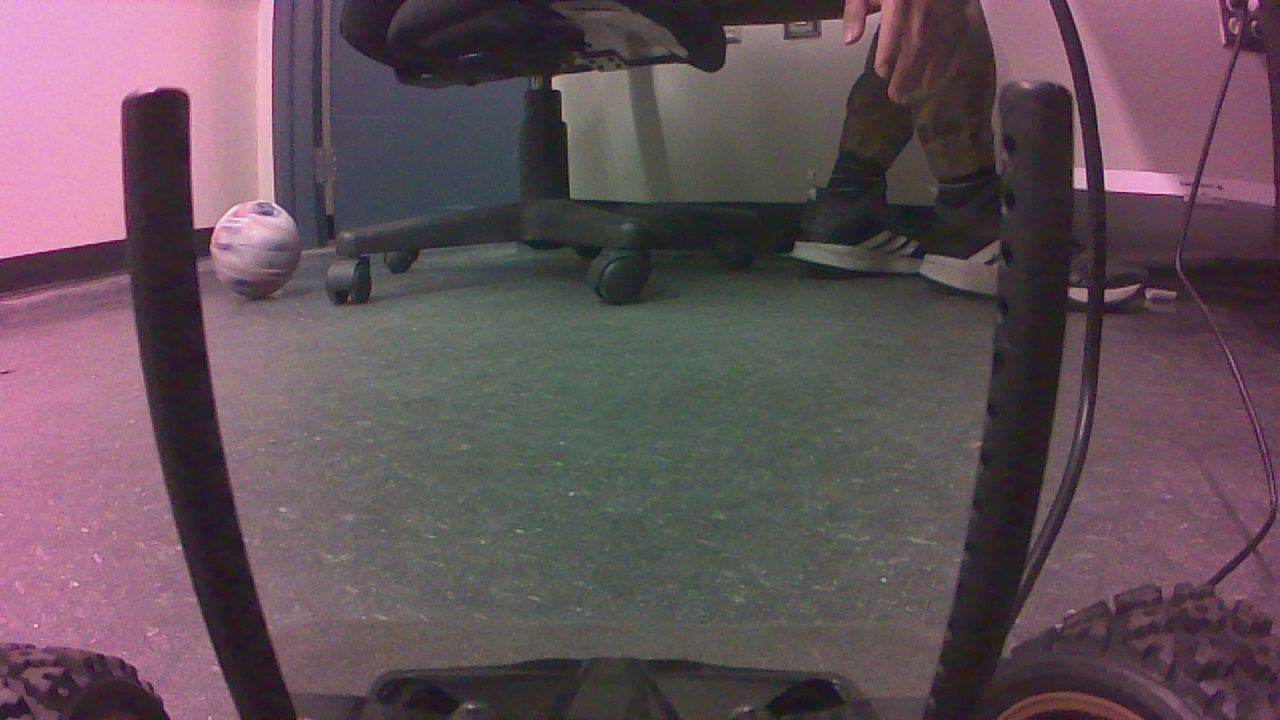ball: (213, 203, 308, 306)
